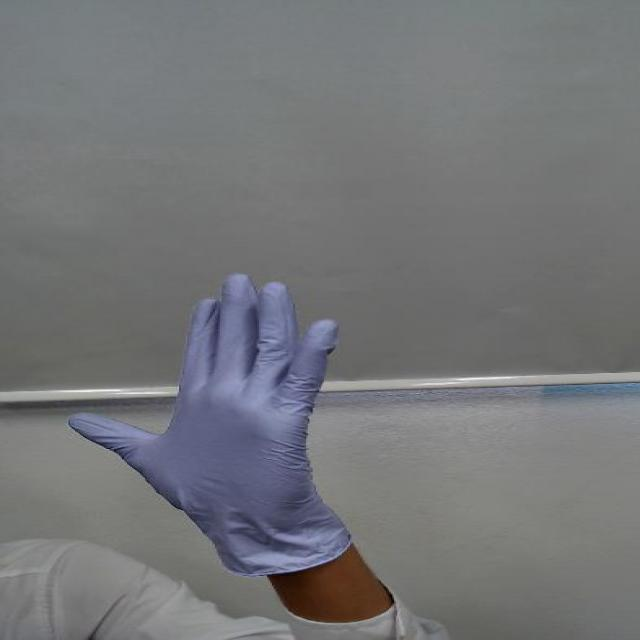Glove: (60, 267, 371, 574)
